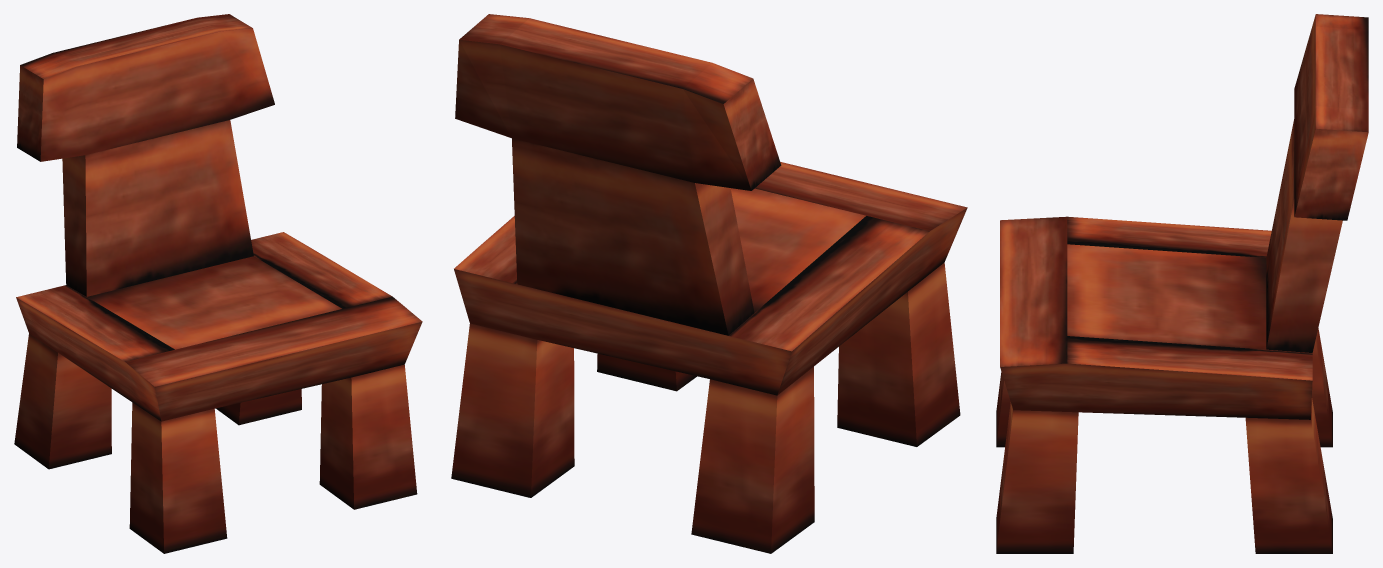
Rendered from chair_wood_simple.DAE.
3 views of the same model, side by side, from view 1: azimuth 30°, elevation 25°; view 2: azimuth 150°, elevation 25°; view 3: azimuth 270°, elevation 25° (orthographic). The views are drawn at different scales.
Visible parts, largest first — view 1: Box01; view 2: Box01; view 3: Box01.
Part boxes in pixels (x1,y1,x2,y2): Box01: (14,14,422,553); Box01: (451,14,967,553); Box01: (996,14,1368,553).
Bounding box in the file's own units: 0.8305 × 1.1 × 0.8907.
